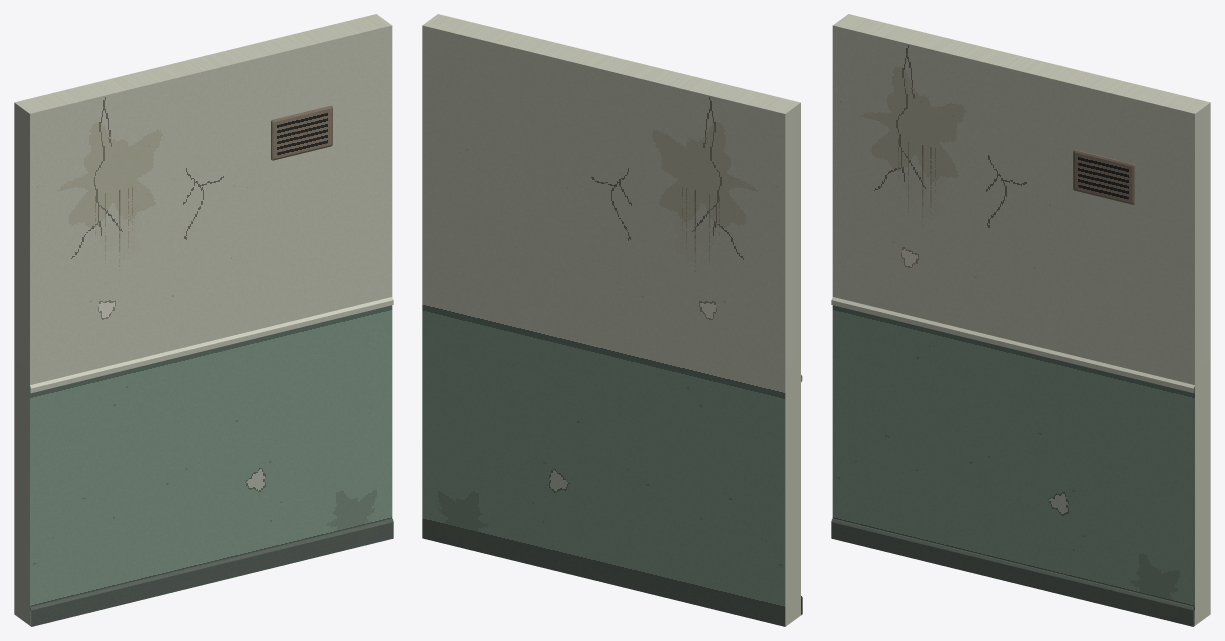
Rendered from wall_3b.glb.
The picture shows the model from 3 angles, left to right: view 1: azimuth 30°, elevation 25°; view 2: azimuth 150°, elevation 25°; view 3: azimuth 330°, elevation 25°; orthographic projection.
Visible parts, largest first — view 1: wall_body, vent_grille; view 2: wall_body; view 3: wall_body, vent_grille.
Part boxes in pixels (x1,y1,x2,y2): wall_body: (14, 14, 393, 626); vent_grille: (271, 105, 332, 160); wall_body: (422, 14, 802, 626); wall_body: (831, 14, 1210, 626); vent_grille: (1073, 150, 1134, 204).
Bounding box in the file's own units: 2 × 2.7 × 0.1656.
1 material, 1 textured.
